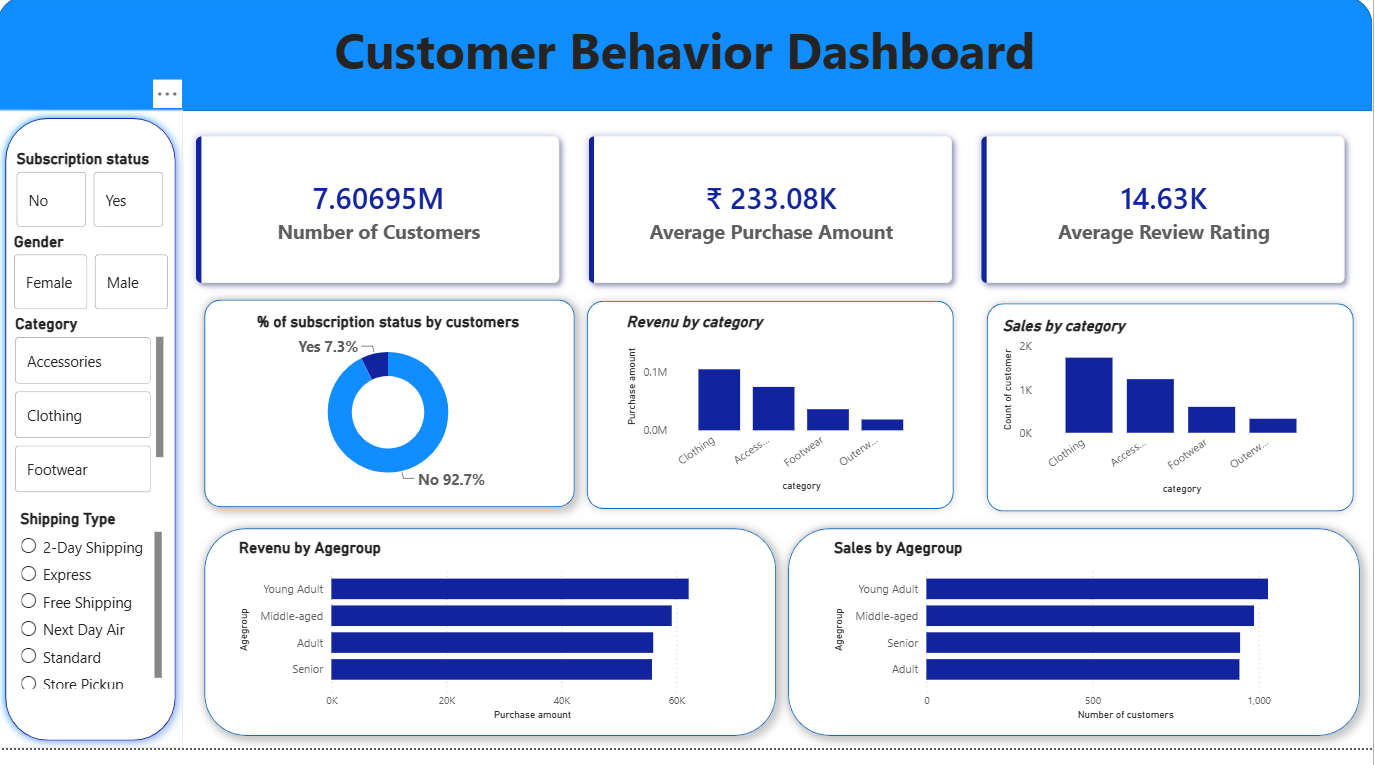

Layout of this report page (visuals, bound fields, positions):
{"tool":"powerbi","page":{"name":"Page 1","canvas":[1500,820],"ordinal":0},"visuals":[{"type":"cardVisual","fields":{"Data":["Sum(customer_behavior_cleaned (1).customer_id)","Sum(customer_behavior_cleaned (1).purchase_amount)","Sum(customer_behavior_cleaned (1).review_rating)"]},"box":[188.5,123.9,1310.8,218.2],"z":0},{"type":"shape","box":[0,0,1499.3,125.7],"z":1000},{"type":"textbox","box":[0,0,1499.3,106.5],"z":2000},{"type":"shape","box":[212.4,317.1,430.5,253.1],"z":3000},{"type":"donutChart","title":"% of subscription status by customers","fields":{"Category":["customer_behavior_cleaned (1).subscription_status"],"Y":["Sum(customer_behavior_cleaned (1).customer_id)"]},"box":[244.4,344.7,365.1,199.3],"z":4000},{"type":"shape","box":[0,123.6,203.6,696.7],"z":7000},{"type":"advancedSlicerVisual","title":"Subscription status","fields":{"Values":["customer_behavior_cleaned (1).subscription_status"]},"box":[16,167.3,171.6,90.2],"z":8000},{"type":"advancedSlicerVisual","title":"Gender","fields":{"Values":["customer_behavior_cleaned (1).gender"]},"box":[13.1,257.5,178.9,90.2],"z":9000},{"type":"advancedSlicerVisual","title":"Category","fields":{"Values":["customer_behavior_cleaned (1).category"]},"box":[14.5,347.6,171.6,199.3],"z":10000},{"type":"listSlicer","title":"Shipping Type","fields":{"Values":["customer_behavior_cleaned (1).shipping_type"]},"box":[20.4,560,164.4,200.7],"z":11000},{"type":"shape","box":[849.5,567.3,650.2,253.1],"z":14000},{"type":"clusteredBarChart","title":"Sales by Agegroup","fields":{"Y":["CountNonNull(customer_behavior_cleaned (1).customer_id)"],"Category":["customer_behavior_cleaned (1).age_group"]},"box":[907.6,592,558.5,203.6],"z":15000},{"type":"shape","box":[635.6,324.4,416,242.9],"z":16000},{"type":"shape","box":[1070.5,327.3,416,242.9],"z":16001},{"type":"clusteredColumnChart","title":"  Revenu by category","fields":{"Y":["Sum(customer_behavior_cleaned (1).purchase_amount)"],"Category":["customer_behavior_cleaned (1).category"]},"box":[680.7,344.7,337.5,200.7],"z":16002},{"type":"clusteredColumnChart","title":"  Sales  by category","fields":{"Y":["CountNonNull(customer_behavior_cleaned (1).customer_id)"],"Category":["customer_behavior_cleaned (1).category"]},"box":[1090.9,349.1,359.3,199.3],"z":16003},{"type":"shape","box":[212.4,567.3,650.2,253.1],"z":16005},{"type":"clusteredBarChart","title":"Revenu by Agegroup","fields":{"Y":["Sum(customer_behavior_cleaned (1).purchase_amount)"],"Category":["customer_behavior_cleaned (1).age_group"]},"box":[258.9,592,558.5,203.6],"z":16006}]}

Visuals, with their boxes in screenshot pixels (x1, y1, x2, y2), scaled from the page's 1500x820 canvas onto the 1375x765 screenshot:
cardVisual - Sum(customer_behavior_cleaned (1).customer_id) x Sum(customer_behavior_cleaned (1).purchase_amount): rect(173, 116, 1374, 319)
shape: rect(0, 0, 1374, 117)
textbox: rect(0, 0, 1374, 99)
shape: rect(195, 296, 589, 532)
"% of subscription status by customers" donutChart: rect(224, 322, 559, 508)
shape: rect(0, 115, 187, 764)
"Subscription status" advancedSlicerVisual: rect(15, 156, 172, 240)
"Gender" advancedSlicerVisual: rect(12, 240, 176, 324)
"Category" advancedSlicerVisual: rect(13, 324, 171, 510)
"Shipping Type" listSlicer: rect(19, 522, 169, 710)
shape: rect(779, 529, 1374, 764)
"Sales by Agegroup" clusteredBarChart: rect(832, 552, 1344, 742)
shape: rect(583, 303, 964, 529)
shape: rect(981, 305, 1363, 532)
"  Revenu by category" clusteredColumnChart: rect(624, 322, 933, 509)
"  Sales  by category" clusteredColumnChart: rect(1000, 326, 1329, 512)
shape: rect(195, 529, 791, 764)
"Revenu by Agegroup" clusteredBarChart: rect(237, 552, 749, 742)
